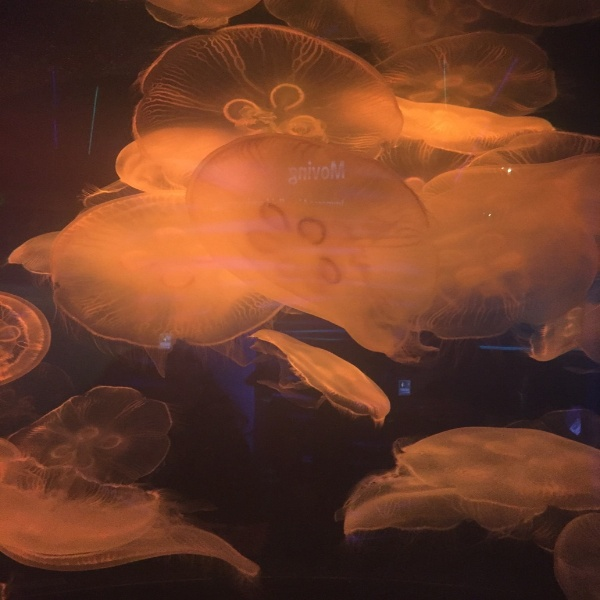Jellyfish: (0, 0, 599, 577), (348, 422, 599, 560)
